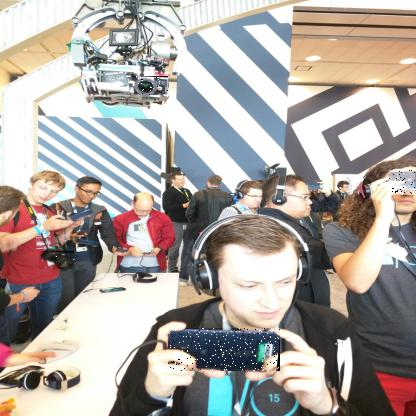Camera: (169, 329, 282, 373), (133, 77, 170, 97), (40, 252, 76, 271), (390, 171, 416, 197)
